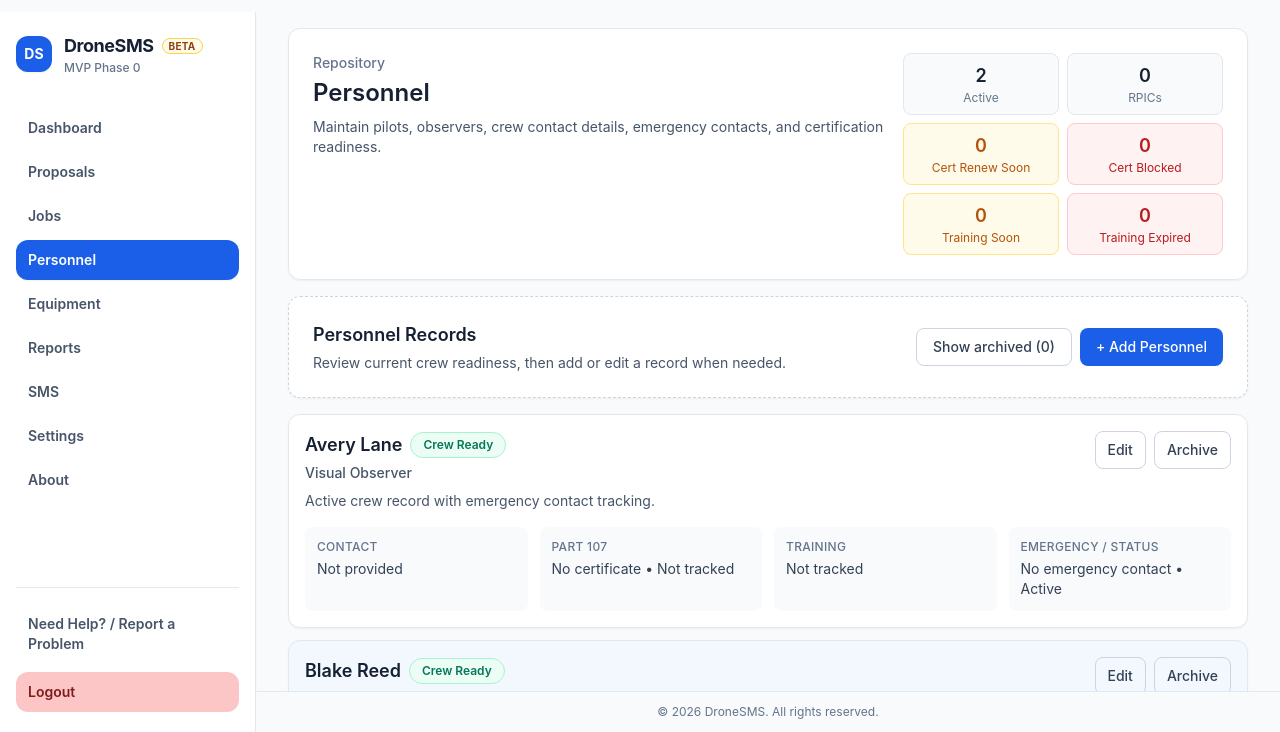
Test: Personnel inline editing › opens the edit form in place of the record, prefilled, without scrolling the page
The image size is (1280, 732).
Expected: the heading "Blake Reed" is shown, x1=305 y1=657 x2=401 y2=685
Click the button "Edit" in the row of "Visual Observer".
click(1120, 676)  # box x1=1094 y1=657 x2=1146 y2=695
(page scrolled)
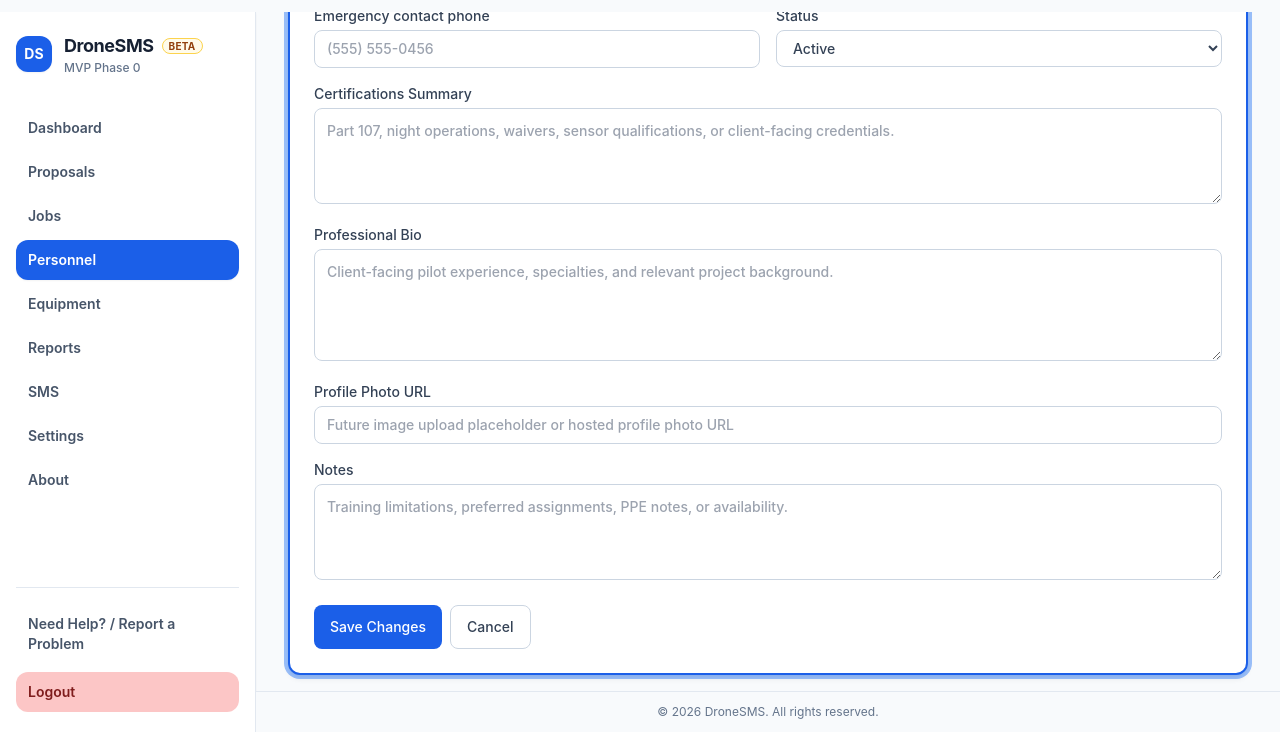
Expected: the button "Save Changes" is shown, x1=314 y1=605 x2=442 y2=649
